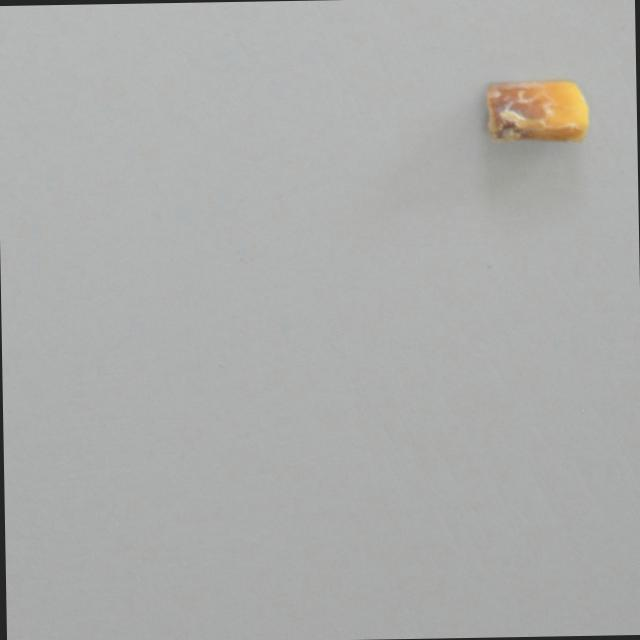dañado: (478, 75, 595, 151)
